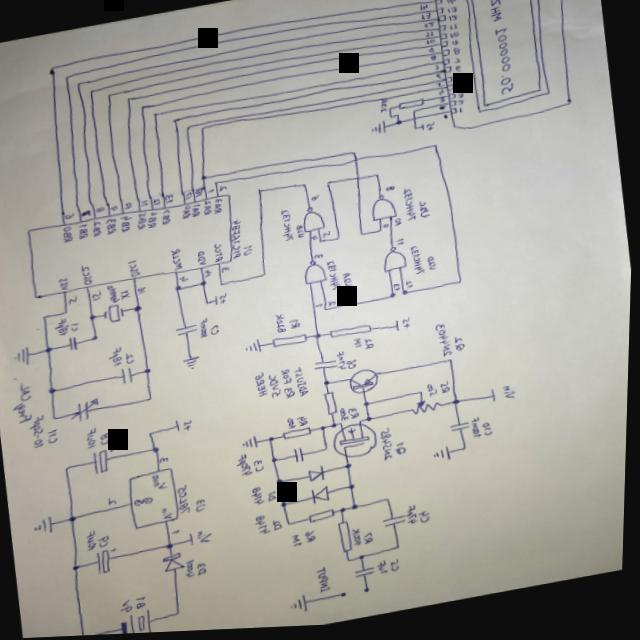capacitor: (71, 398, 104, 424), (95, 447, 122, 475), (99, 547, 124, 575), (385, 517, 412, 532), (314, 360, 341, 375), (451, 424, 475, 438), (122, 366, 138, 387), (357, 568, 380, 582), (177, 325, 200, 338), (295, 448, 309, 467), (70, 335, 82, 352)
crossover: (354, 160, 360, 165), (356, 178, 362, 183), (413, 119, 419, 124)
diode: (165, 552, 190, 574), (314, 486, 334, 507), (309, 468, 330, 486)
ground: (35, 515, 59, 536), (292, 596, 314, 618), (15, 345, 34, 368), (183, 356, 206, 373), (435, 448, 455, 466), (370, 122, 389, 140), (247, 339, 265, 356), (244, 436, 262, 453)
junction: (277, 480, 289, 488), (71, 515, 82, 523), (168, 543, 179, 551), (50, 387, 61, 395), (324, 381, 335, 389), (135, 305, 145, 313), (269, 437, 279, 445), (351, 485, 361, 493), (52, 414, 62, 422), (75, 565, 86, 572), (145, 368, 154, 376), (106, 92, 115, 100), (48, 65, 57, 73), (454, 402, 464, 409), (46, 346, 56, 353), (347, 465, 357, 472), (200, 281, 210, 288), (153, 447, 163, 454), (364, 404, 374, 411), (282, 503, 292, 510), (315, 335, 325, 342), (65, 465, 75, 472), (172, 118, 182, 125), (90, 314, 100, 321), (273, 458, 283, 465), (177, 285, 185, 293), (43, 313, 51, 321), (151, 112, 160, 119), (367, 418, 376, 425), (64, 309, 73, 316), (88, 88, 97, 95), (354, 506, 362, 513), (396, 122, 404, 129), (433, 145, 441, 152), (374, 175, 383, 181), (185, 126, 194, 132), (322, 427, 331, 433), (351, 153, 360, 159), (362, 557, 370, 563), (94, 335, 102, 341), (178, 611, 186, 617), (257, 190, 265, 196), (263, 273, 271, 279), (387, 500, 395, 506), (458, 282, 466, 288), (202, 176, 210, 182), (465, 449, 472, 455), (150, 432, 157, 438), (343, 509, 350, 515), (404, 292, 411, 298), (83, 633, 93, 637), (361, 234, 367, 240), (399, 547, 405, 553), (338, 238, 344, 244), (303, 185, 310, 190), (326, 183, 333, 188), (392, 296, 399, 301), (214, 182, 221, 187), (76, 82, 83, 87), (420, 392, 427, 397), (289, 523, 296, 528), (150, 397, 156, 402), (334, 425, 340, 430), (450, 362, 456, 367), (413, 112, 419, 117), (65, 75, 71, 80), (320, 241, 326, 246), (201, 127, 207, 132), (141, 105, 147, 110), (127, 97, 133, 102), (349, 560, 355, 565), (326, 449, 331, 454), (207, 302, 212, 307), (390, 118, 395, 122), (388, 110, 393, 114), (325, 310, 330, 314), (221, 284, 225, 289), (380, 232, 384, 236), (415, 130, 419, 134), (397, 116, 401, 120), (342, 424, 346, 428)
resistor: (411, 399, 446, 420), (331, 326, 375, 342), (273, 334, 310, 351), (340, 523, 358, 556), (284, 428, 316, 443), (311, 510, 340, 526), (325, 393, 342, 419), (399, 101, 426, 113)
source: (122, 609, 160, 635)
terminal: (191, 533, 199, 548), (492, 392, 500, 407), (177, 420, 185, 433), (396, 322, 403, 335), (343, 593, 353, 601), (366, 589, 375, 596), (216, 297, 221, 307), (422, 127, 427, 134)
text: (486, 0, 518, 100), (11, 380, 39, 425), (435, 326, 457, 362), (230, 220, 249, 261), (30, 413, 51, 449), (402, 189, 422, 226), (380, 429, 400, 465), (294, 367, 314, 400), (280, 210, 298, 245), (410, 246, 428, 281), (282, 369, 300, 402), (328, 262, 345, 294), (179, 485, 196, 516), (238, 454, 257, 480), (256, 514, 275, 538), (319, 569, 336, 595), (109, 346, 127, 369), (81, 263, 98, 287), (86, 427, 103, 451), (257, 372, 272, 399), (270, 375, 286, 400), (172, 248, 188, 272), (212, 243, 229, 265), (55, 317, 72, 338), (87, 530, 103, 552), (275, 314, 291, 336), (128, 259, 144, 280), (253, 487, 269, 508), (108, 283, 124, 304), (154, 474, 172, 492), (418, 202, 434, 222), (407, 507, 422, 528), (199, 318, 213, 340), (199, 529, 217, 546), (504, 387, 520, 406), (473, 420, 486, 442), (198, 249, 212, 268), (49, 426, 63, 445), (121, 215, 135, 234), (122, 599, 138, 615), (136, 497, 159, 508), (147, 212, 161, 230), (338, 352, 350, 373), (187, 560, 200, 579), (455, 339, 470, 355), (379, 562, 394, 578), (106, 218, 120, 235), (197, 498, 211, 515), (63, 226, 76, 244), (137, 213, 150, 231), (164, 507, 179, 522), (59, 276, 73, 292), (102, 431, 116, 447), (428, 258, 441, 275), (92, 220, 105, 237), (355, 530, 366, 550), (255, 460, 269, 475), (307, 531, 321, 546), (420, 513, 435, 527), (78, 224, 91, 240), (162, 210, 174, 227), (203, 200, 215, 217), (100, 535, 114, 549), (138, 596, 152, 610), (397, 444, 411, 458), (213, 200, 226, 215), (182, 205, 195, 220), (199, 563, 212, 578), (484, 425, 497, 440), (344, 274, 356, 290), (379, 100, 391, 116), (429, 385, 441, 401), (126, 352, 139, 366), (92, 290, 106, 303), (365, 534, 378, 548), (294, 535, 307, 549), (393, 560, 405, 575), (297, 225, 308, 241), (269, 492, 282, 505), (350, 409, 363, 422), (299, 417, 312, 430), (192, 205, 204, 219), (442, 383, 454, 397), (341, 410, 353, 424), (289, 418, 301, 432), (185, 420, 197, 433), (243, 246, 256, 258), (290, 321, 303, 332), (423, 24, 438, 33), (204, 269, 216, 280), (275, 522, 287, 533), (211, 325, 222, 337), (403, 320, 414, 332), (69, 295, 82, 305), (220, 293, 230, 306), (366, 341, 377, 352), (426, 124, 437, 135), (122, 290, 133, 301), (348, 362, 360, 372), (395, 219, 405, 230), (111, 496, 122, 506), (138, 286, 150, 295), (420, 15, 432, 24), (220, 185, 230, 195), (166, 195, 176, 205), (356, 340, 366, 350), (72, 323, 83, 332), (124, 202, 135, 211), (445, 0, 457, 8), (221, 267, 233, 275), (447, 9, 459, 17), (448, 17, 460, 25), (452, 50, 461, 60), (196, 189, 205, 199), (394, 286, 404, 295), (425, 41, 436, 49), (65, 213, 77, 220), (82, 210, 94, 217), (407, 283, 416, 292), (456, 86, 465, 95), (154, 198, 163, 207), (185, 193, 194, 202), (449, 26, 459, 34), (387, 188, 398, 195), (315, 255, 326, 262), (450, 35, 461, 42), (180, 276, 191, 283), (162, 457, 173, 464), (324, 233, 333, 241), (451, 42, 460, 50), (453, 60, 462, 68), (455, 68, 463, 77), (312, 196, 322, 203), (330, 302, 340, 309), (425, 34, 435, 41), (419, 7, 429, 14), (97, 206, 107, 213), (110, 205, 120, 212), (397, 241, 407, 248), (436, 85, 447, 91), (458, 103, 467, 110), (456, 79, 465, 86), (142, 201, 151, 208), (439, 108, 449, 114), (457, 96, 465, 103), (436, 76, 443, 84), (430, 58, 438, 65), (317, 305, 326, 311), (438, 92, 445, 99), (434, 67, 441, 74), (429, 49, 436, 56), (439, 101, 447, 107), (312, 237, 320, 243), (175, 530, 184, 535), (443, 116, 449, 123), (209, 190, 217, 195), (383, 226, 391, 231), (459, 111, 464, 117)
transistor: (333, 422, 383, 464), (349, 369, 384, 398)
